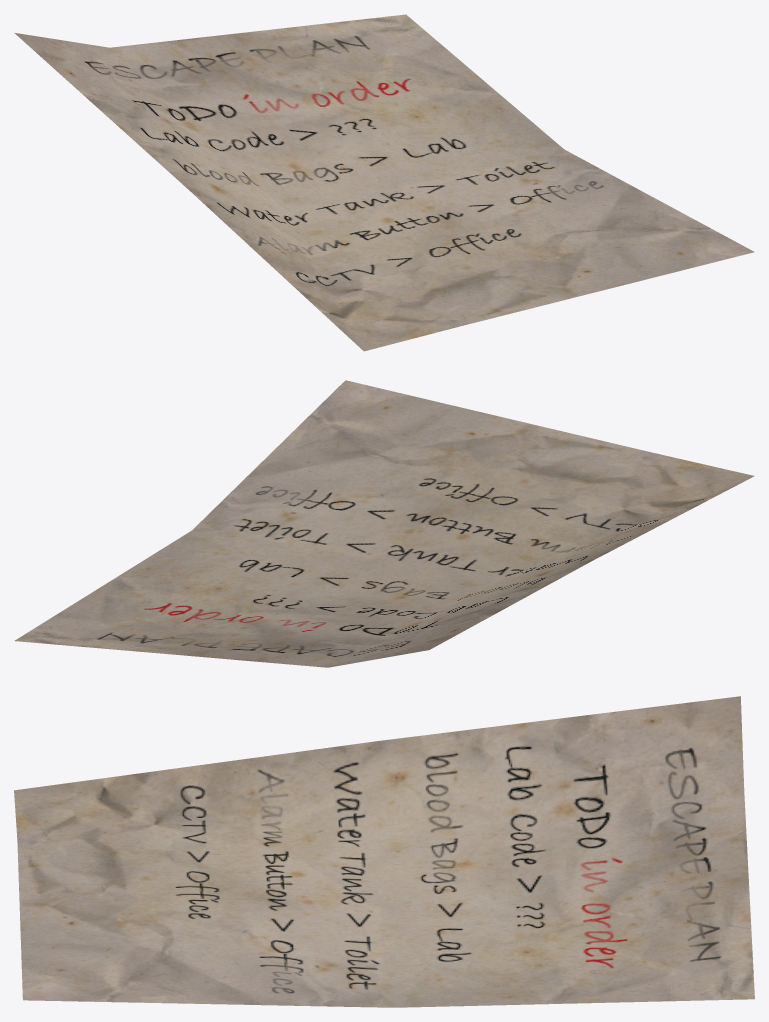
File: EscapePlan.FBX
The picture shows the model from 3 angles, top to bottom: view 1: azimuth 30°, elevation 25°; view 2: azimuth 150°, elevation 25°; view 3: azimuth 270°, elevation 25°; orthographic projection. The views are drawn at different scales.
Parts seen in each view (by area): view 1: EscapePlan; view 2: EscapePlan; view 3: EscapePlan.
Boxes of the visible parts, box(x1,y1,x2,y2) form: EscapePlan: box(14, 14, 754, 351); EscapePlan: box(14, 380, 754, 667); EscapePlan: box(14, 696, 754, 1007).
Size of the model in its own units: 27.58 by 6.11 by 39.49.
